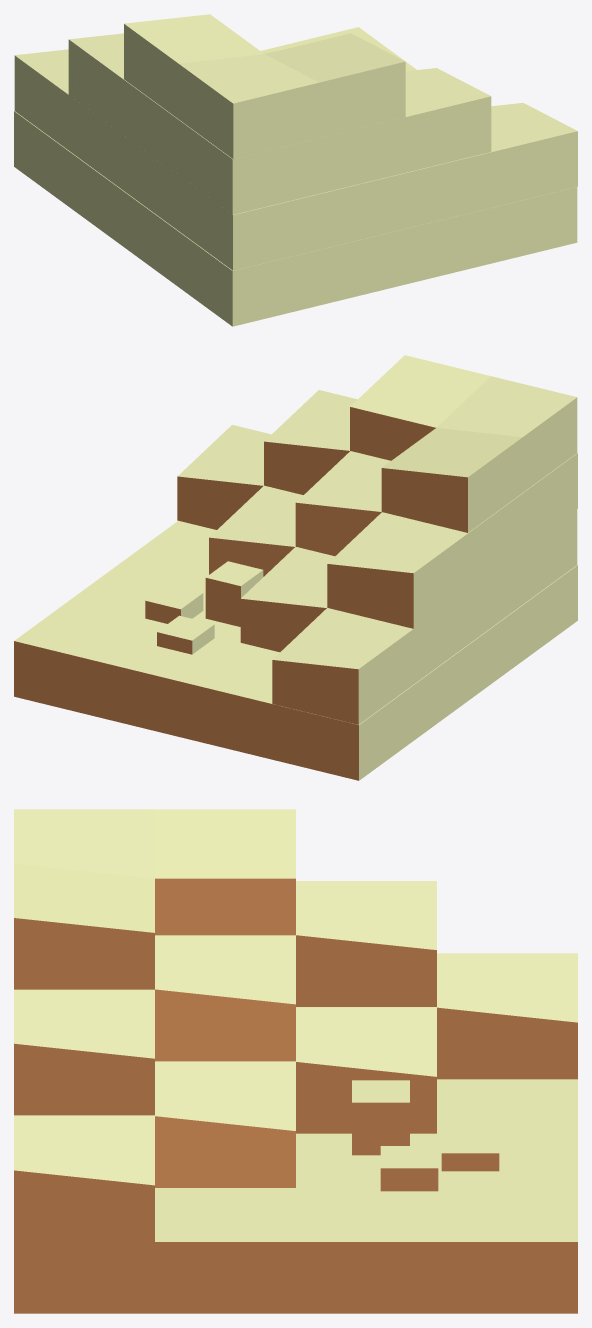
File: marble.glb
3 views of the same model, one above another, from view 1: azimuth 30°, elevation 25°; view 2: azimuth 150°, elevation 25°; view 3: azimuth 270°, elevation 25° (orthographic). The views are drawn at different scales.
Parts seen in each view (by area): view 1: Cube; view 2: Cube; view 3: Cube.
Boxes of the visible parts, x1,y1,x2,y2 form: Cube: [14, 14, 577, 326]; Cube: [14, 355, 577, 780]; Cube: [14, 809, 577, 1313].
Size of the model in its own units: 9.84 by 6.07 by 10.79.
